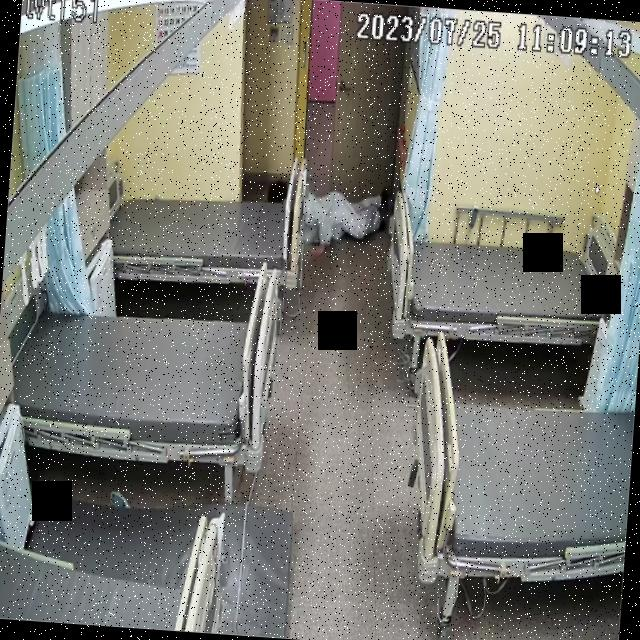bed: (402, 331, 639, 591), (5, 296, 278, 466), (381, 218, 623, 352), (108, 178, 303, 289)
fall: (272, 160, 392, 260)
patient: (273, 162, 392, 258)
